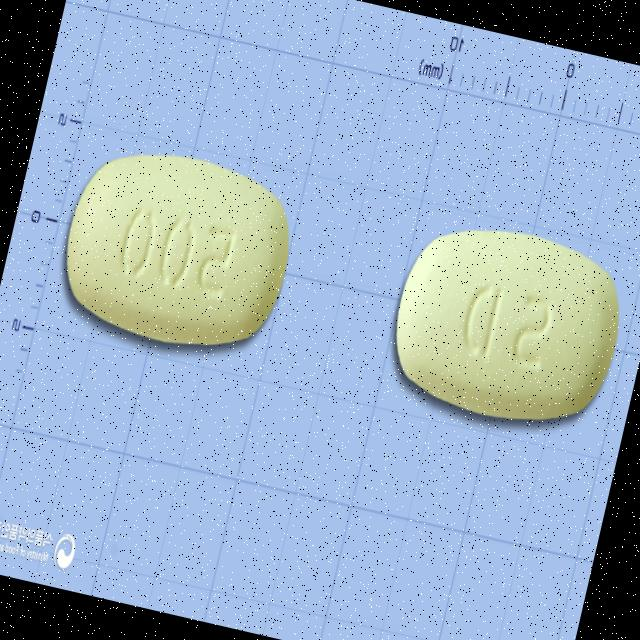Clabio: (371, 202, 639, 453), (44, 127, 310, 373)
